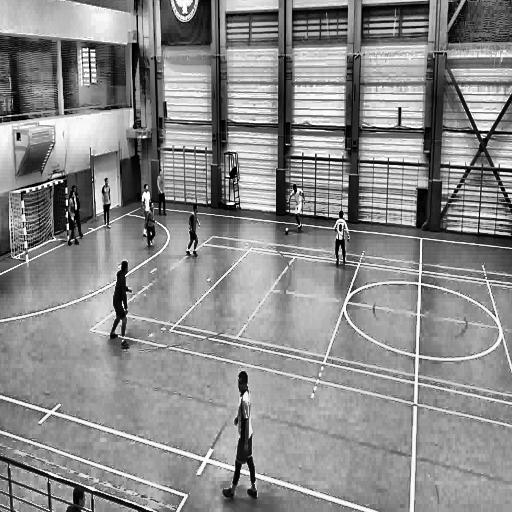ball: (283, 224, 290, 236)
player: (220, 365, 261, 503), (107, 260, 135, 351), (332, 208, 351, 269), (286, 182, 306, 238), (184, 203, 202, 259), (66, 183, 83, 240), (67, 192, 80, 250), (144, 201, 158, 254), (100, 176, 112, 233), (141, 181, 151, 240), (157, 168, 168, 216)
